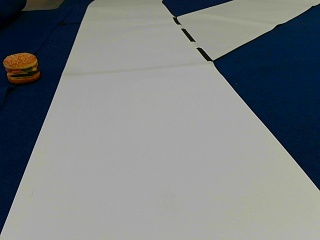burger: (2, 51, 40, 83)
